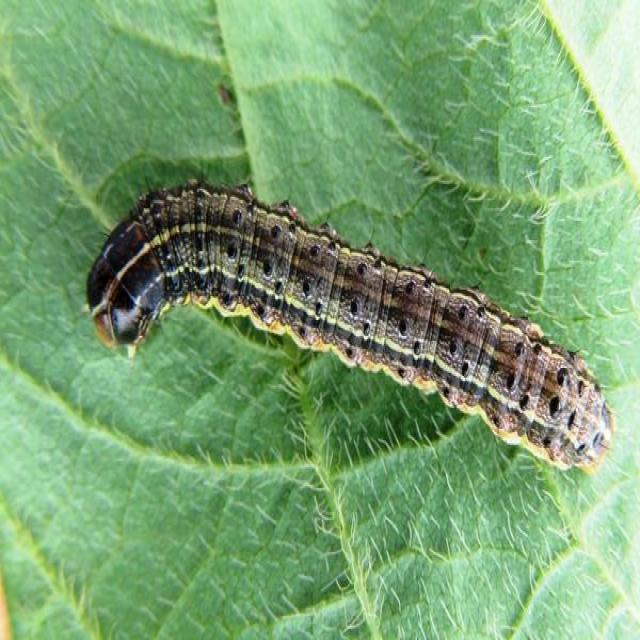army worm: (79, 172, 618, 483)
